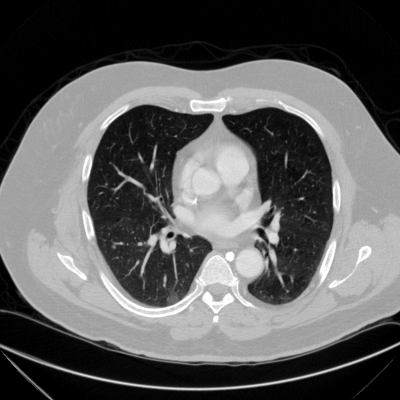nodule: (112, 244, 116, 248)
